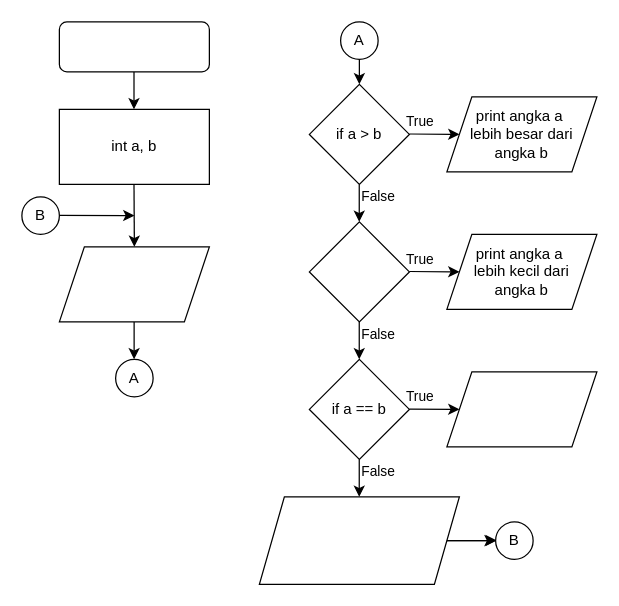
Image size: 619x606. Some labels were removed from this diagram. The shapes that lost their labels are listed below. From the top down, each one's box as (x1, y1, x2, y2) in pixels, then its label:
(58, 21, 209, 72): Start
(58, 246, 209, 322): Input a, b
(308, 221, 409, 322): if a < b
(446, 371, 597, 447): print angka a sama besar angka b
(258, 496, 459, 584): print "input harus angka!"
